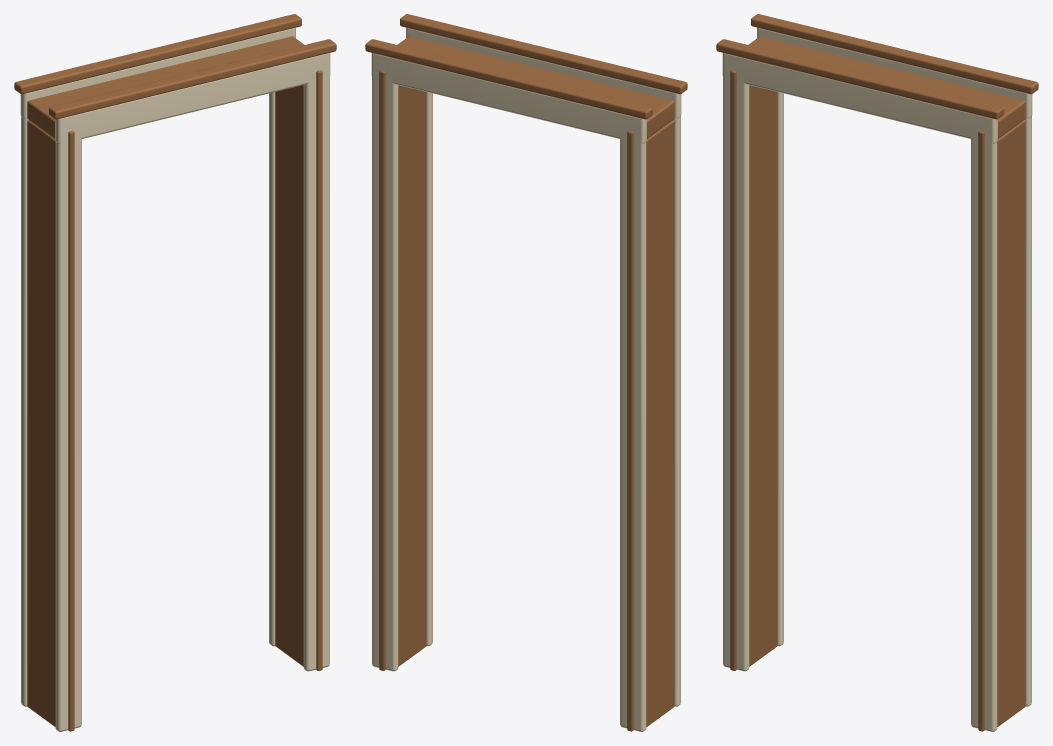
File: door_frame.glb
3 views of the same model, side by side, from view 1: azimuth 30°, elevation 25°; view 2: azimuth 150°, elevation 25°; view 3: azimuth 330°, elevation 25° (orthographic).
Visible parts, largest first — view 1: House07_door_frame; view 2: House07_door_frame; view 3: House07_door_frame.
Boxes of the visible parts, x1,y1,x2,y2 form: House07_door_frame: (14, 14, 336, 731); House07_door_frame: (365, 14, 687, 731); House07_door_frame: (716, 14, 1038, 731).
Bounding box in the file's own units: 1.23 × 2.6 × 0.318.
